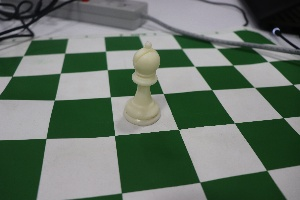white_bishop: (119, 36, 165, 131)
